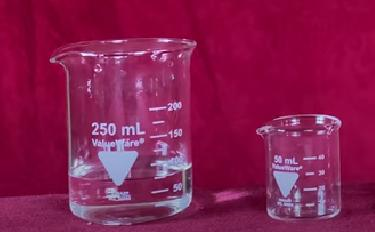Beaker: (45, 35, 203, 224), (254, 111, 344, 222)
